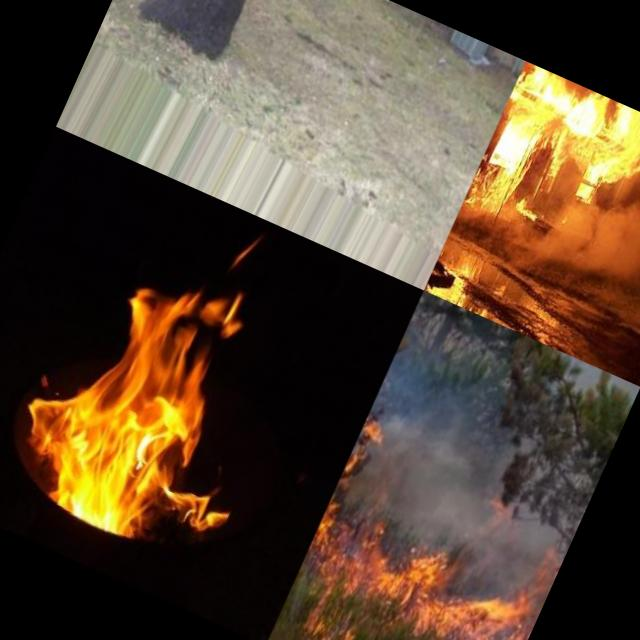fire: (0, 252, 305, 574), (265, 451, 569, 640), (491, 61, 640, 207), (469, 139, 556, 216)
smoke: (513, 171, 640, 322), (444, 190, 534, 274)
